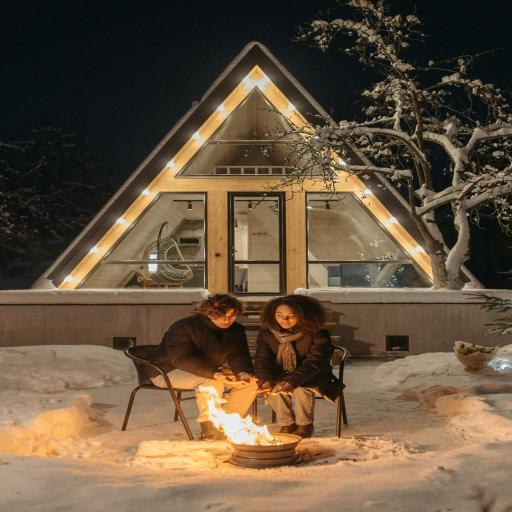campfire: (158, 374, 328, 490)
